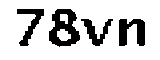7: (13, 4, 44, 50)
8: (50, 5, 80, 50)
n: (118, 15, 148, 48)
v: (81, 14, 114, 47)
